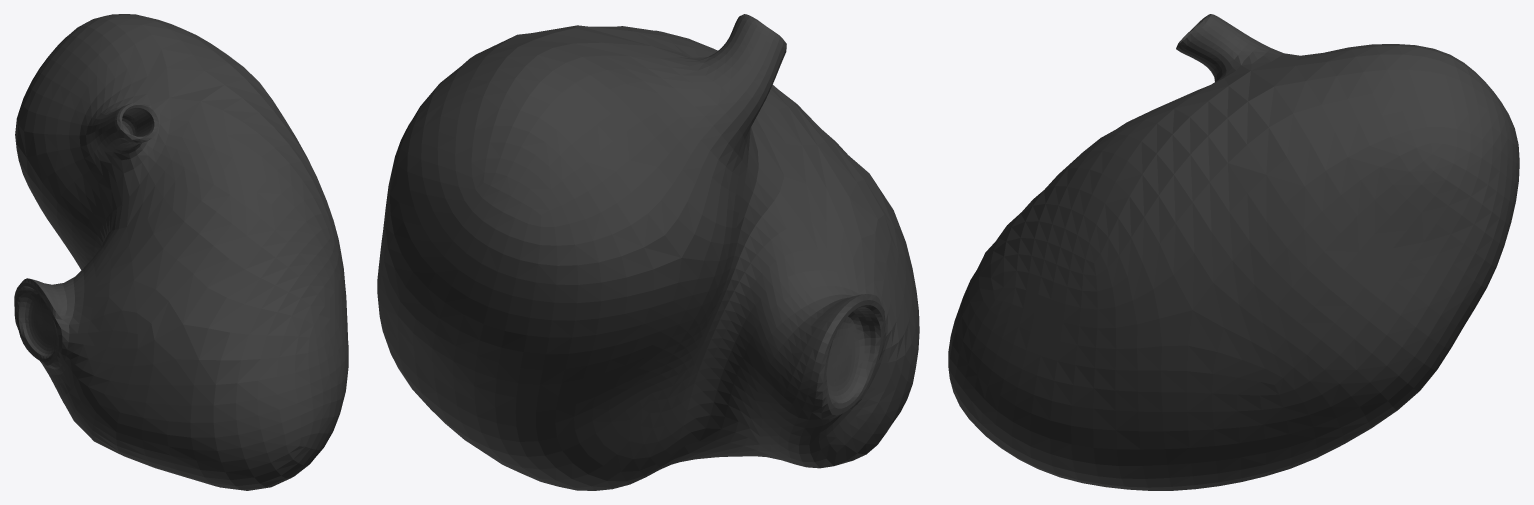
File: Stomach.glb
The picture shows the model from 3 angles, left to right: view 1: azimuth 30°, elevation 25°; view 2: azimuth 150°, elevation 25°; view 3: azimuth 270°, elevation 25°; orthographic projection. The views are drawn at different scales.
Parts seen in each view (by area): view 1: Stomach; view 2: Stomach; view 3: Stomach.
Part boxes in pixels (bbox=[...]): Stomach: bbox=[14, 14, 348, 490]; Stomach: bbox=[377, 14, 919, 490]; Stomach: bbox=[948, 14, 1519, 490].
Bounding box in the file's own units: 0.3891 × 0.4659 × 0.5724.
Materials: 1 (1 with a texture image).
